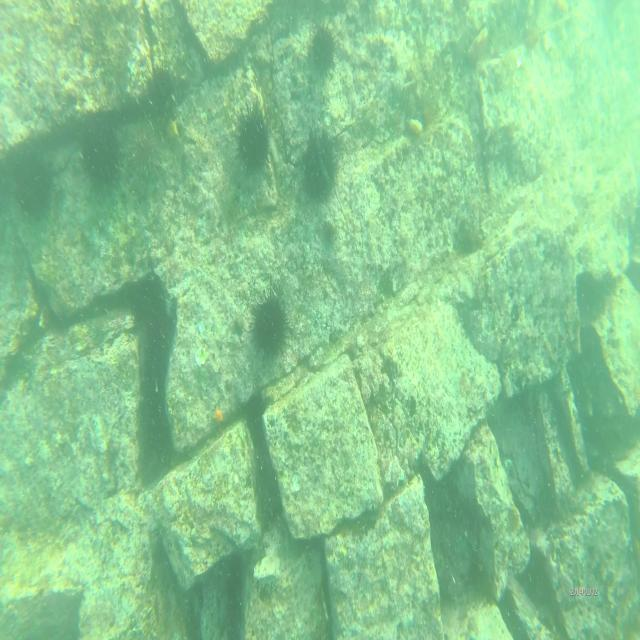echinus: (9, 148, 56, 220), (78, 109, 120, 188), (250, 285, 292, 363), (301, 123, 342, 202), (231, 101, 273, 173), (129, 120, 167, 188), (142, 61, 176, 123), (309, 20, 340, 76)
starfish: (211, 405, 225, 429)
